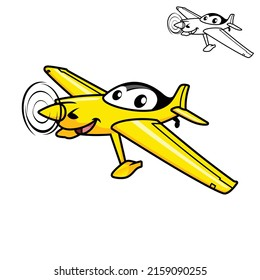airplane: (23, 62, 240, 195), (164, 2, 255, 59)
